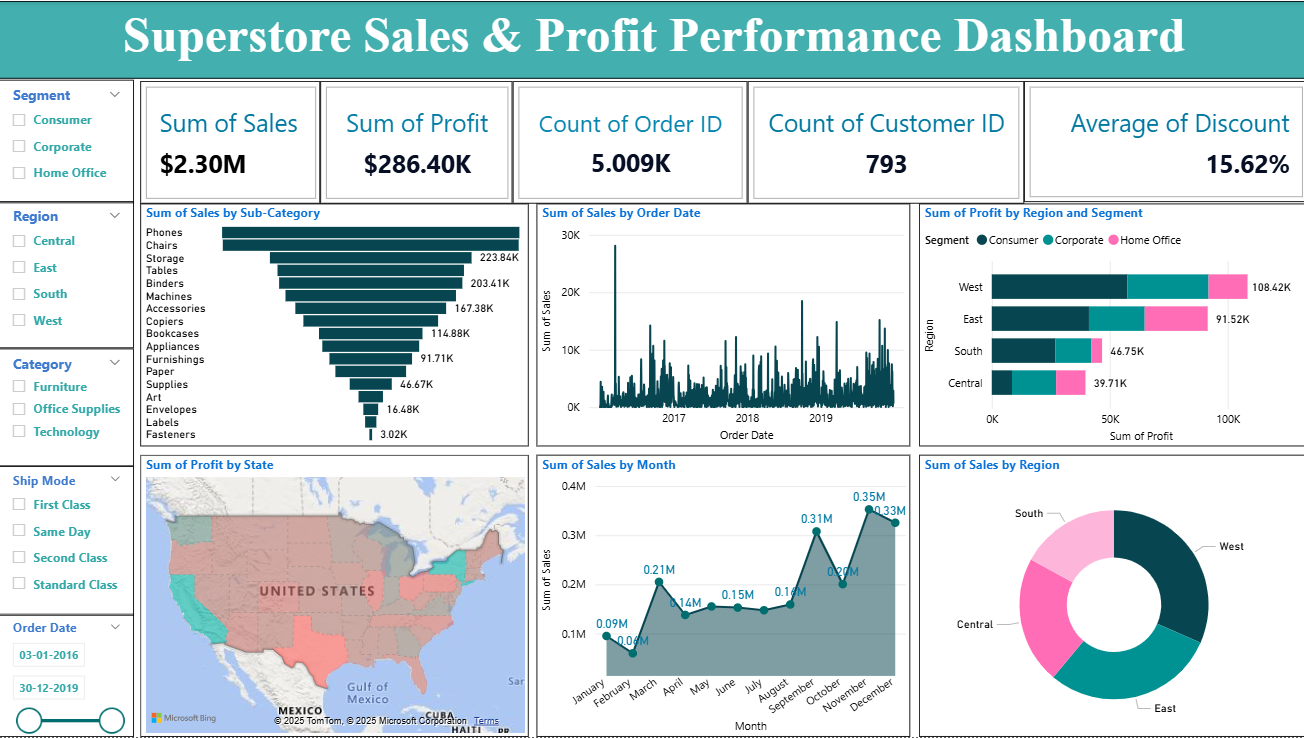

This screenshot's page, from the dashboard's own definition file:
{"tool":"powerbi","page":{"name":"Sales & Profit Performance Dashboard","canvas":[1280,720],"ordinal":0},"visuals":[{"type":"textbox","box":[0,0,1280.3,75.8],"z":0},{"type":"cardVisual","fields":{"Data":["Sum(Orders.Sales)"]},"box":[138.2,78.3,176.1,119.8],"z":1000},{"type":"cardVisual","fields":{"Data":["Sum(Orders.Profit)"]},"box":[314.3,78.3,188.3,119.8],"z":2000},{"type":"cardVisual","fields":{"Data":["Count(Orders.Order ID)"]},"box":[502.6,78.3,229.9,119.8],"z":3000},{"type":"cardVisual","fields":{"Data":["Count(Orders.Customer ID)"]},"box":[732.5,78.3,270.2,119.8],"z":4000},{"type":"cardVisual","fields":{"Data":["Avg(Orders.Discount)"]},"box":[1002.7,78.3,277.6,118.6],"z":5000},{"type":"slicer","fields":{"Values":["Orders.Segment"]},"box":[0,77,132.1,121.1],"z":6000},{"type":"slicer","fields":{"Values":["Orders.Region"]},"box":[0,195.7,132.1,144.3],"z":7000},{"type":"slicer","fields":{"Values":["Orders.Category"]},"box":[0,339.9,132.1,114.9],"z":8000},{"type":"slicer","fields":{"Values":["Orders.Ship Mode"]},"box":[0,454.9,132.1,146.7],"z":9000},{"type":"slicer","fields":{"Values":["Orders.Order Date"]},"box":[0,599.2,132.1,121.1],"z":10000},{"type":"funnel","fields":{"Category":["Orders.Sub-Category"],"Y":["Sum(Orders.Sales)"]},"box":[138.2,198.1,380.3,237.2],"z":11000},{"type":"barChart","fields":{"Series":["Orders.Segment"],"Category":["Orders.Region"],"Y":["Sum(Orders.Profit)"]},"box":[900,198.1,380.3,237.2],"z":12000},{"type":"lineChart","fields":{"Category":["Orders.Order Date"],"Y":["Sum(Orders.Sales)"]},"box":[525.8,198.1,365.6,237.2],"z":13000},{"type":"filledMap","fields":{"Category":["Orders.State"]},"box":[138.2,443.9,380.3,276.4],"z":14000},{"type":"donutChart","fields":{"Category":["Orders.Region"],"Y":["Sum(Orders.Sales)"]},"box":[900,443.9,380.3,276.4],"z":15000},{"type":"stackedAreaChart","fields":{"Category":["Orders.Order Date.Variation.Date Hierarchy.Month"],"Y":["Sum(Orders.Sales)"]},"box":[525.8,443.6,365.6,276.4],"z":16000}]}

Visuals, with their boxes in screenshot pixels (x1, y1, x2, y2), scaled from the page's 1280x720 canvas onto the 1304x738 screenshot:
textbox: left=0, top=0, right=1303, bottom=78
cardVisual - Sum(Orders.Sales): left=141, top=80, right=320, bottom=203
cardVisual - Sum(Orders.Profit): left=320, top=80, right=512, bottom=203
cardVisual - Count(Orders.Order ID): left=512, top=80, right=746, bottom=203
cardVisual - Count(Orders.Customer ID): left=746, top=80, right=1022, bottom=203
cardVisual - Avg(Orders.Discount): left=1022, top=80, right=1303, bottom=202
slicer - Orders.Segment: left=0, top=79, right=135, bottom=203
slicer - Orders.Region: left=0, top=201, right=135, bottom=348
slicer - Orders.Category: left=0, top=348, right=135, bottom=466
slicer - Orders.Ship Mode: left=0, top=466, right=135, bottom=617
slicer - Orders.Order Date: left=0, top=614, right=135, bottom=737
funnel - Orders.Sub-Category x Sum(Orders.Sales): left=141, top=203, right=528, bottom=446
barChart - Orders.Segment x Orders.Region: left=917, top=203, right=1303, bottom=446
lineChart - Orders.Order Date x Sum(Orders.Sales): left=536, top=203, right=908, bottom=446
filledMap - Orders.State: left=141, top=455, right=528, bottom=737
donutChart - Orders.Region x Sum(Orders.Sales): left=917, top=455, right=1303, bottom=737
stackedAreaChart - Orders.Order Date.Variation.Date Hierarchy.Month x Sum(Orders.Sales): left=536, top=455, right=908, bottom=737
